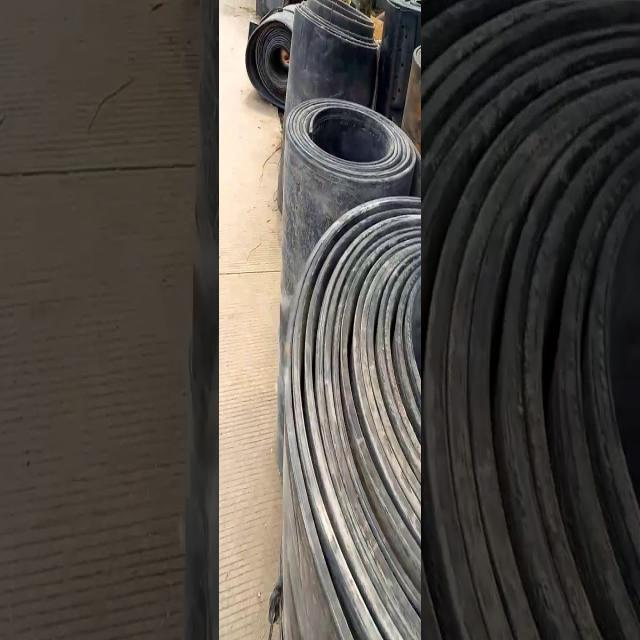convoyeur: (423, 2, 640, 640), (282, 197, 422, 640), (287, 94, 423, 196), (293, 2, 383, 92)
